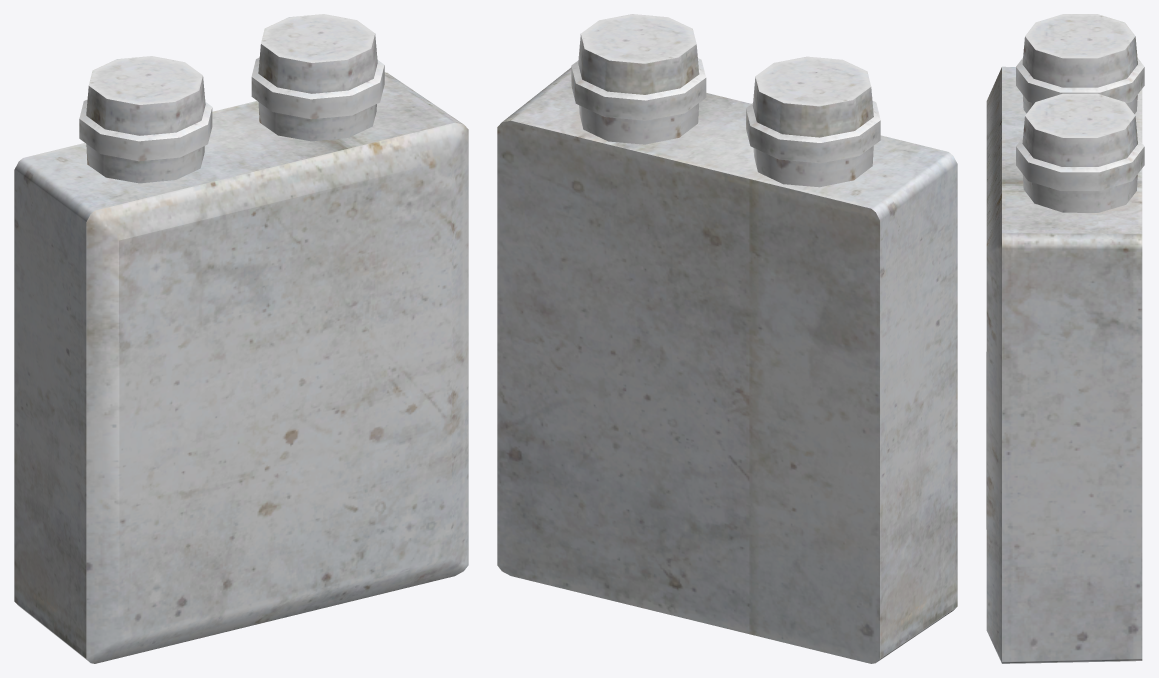
Rendered from SM_Wires_Pipes_01i.glb.
The picture shows the model from 3 angles, left to right: view 1: azimuth 30°, elevation 25°; view 2: azimuth 150°, elevation 25°; view 3: azimuth 270°, elevation 25°; orthographic projection. The views are drawn at different scales.
Visible parts, largest first — view 1: SM_Wires_Pipes_01i; view 2: SM_Wires_Pipes_01i; view 3: SM_Wires_Pipes_01i.
Boxes of the visible parts, left/top/right/bottom form: SM_Wires_Pipes_01i: left=14, top=14, right=468, bottom=663; SM_Wires_Pipes_01i: left=497, top=14, right=957, bottom=663; SM_Wires_Pipes_01i: left=986, top=14, right=1144, bottom=663.
Bounding box in the file's own units: 0.111 × 0.1473 × 0.042.
Materials: 1 (1 with a texture image).
